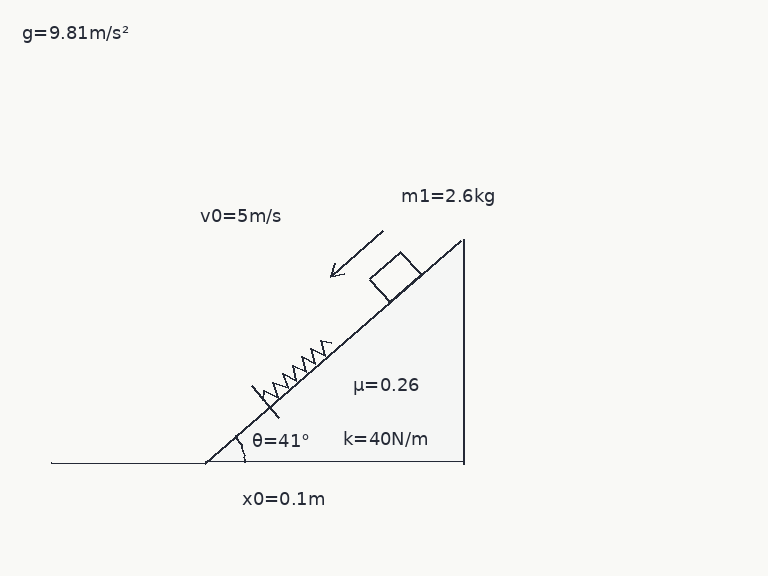block: (367, 249, 423, 304)
ramp: (203, 236, 464, 464)
spring: (261, 338, 332, 401)
